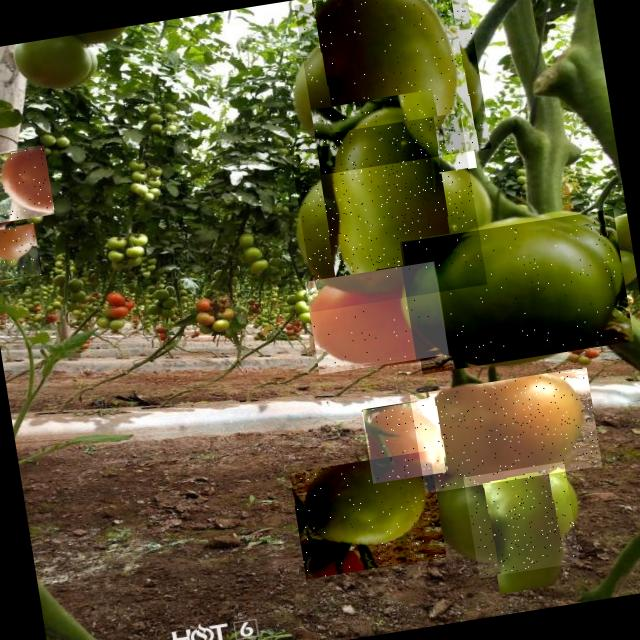Ripe Tomato: (306, 261, 452, 375), (362, 399, 446, 484), (0, 145, 55, 226), (0, 223, 41, 283)
Unripe Tomato: (288, 112, 488, 312), (402, 208, 634, 374), (295, 0, 492, 175), (410, 367, 602, 494), (290, 450, 447, 580), (464, 462, 580, 578)
